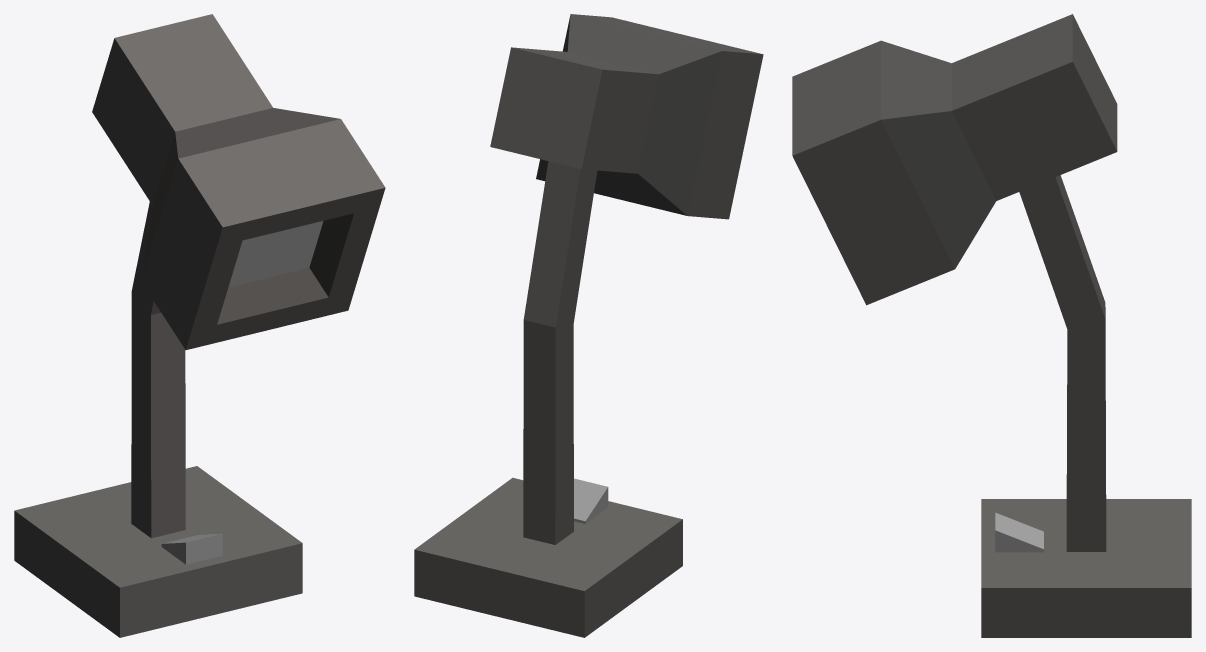
Rendered from SO_Lamp_01.fbx.
The picture shows the model from 3 angles, left to right: view 1: azimuth 30°, elevation 25°; view 2: azimuth 150°, elevation 25°; view 3: azimuth 270°, elevation 25°; orthographic projection. The views are drawn at different scales.
Visible parts, largest first — view 1: SO_Lamp_01; view 2: SO_Lamp_01; view 3: SO_Lamp_01.
Boxes of the visible parts, bbox=[...] form: SO_Lamp_01: bbox=[14, 14, 385, 637]; SO_Lamp_01: bbox=[414, 14, 763, 637]; SO_Lamp_01: bbox=[792, 14, 1191, 637].
Size of the model in its own units: 0.2725 by 0.7928 by 0.5171.
